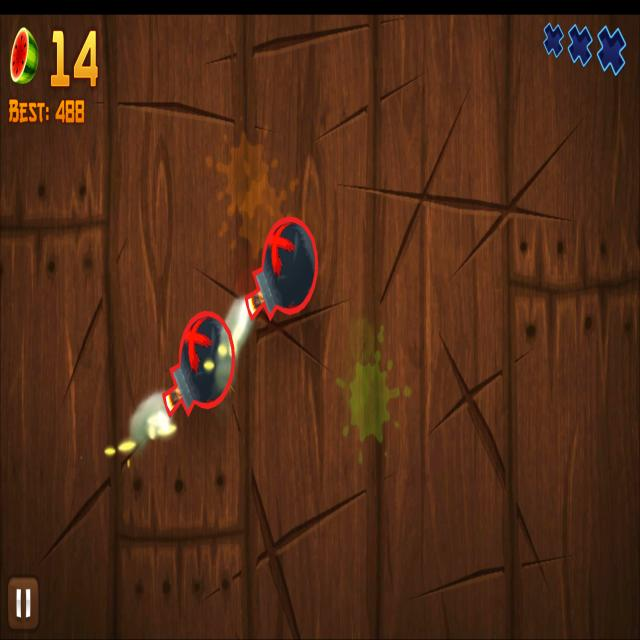bomb: (163, 311, 236, 418), (246, 215, 319, 321)
